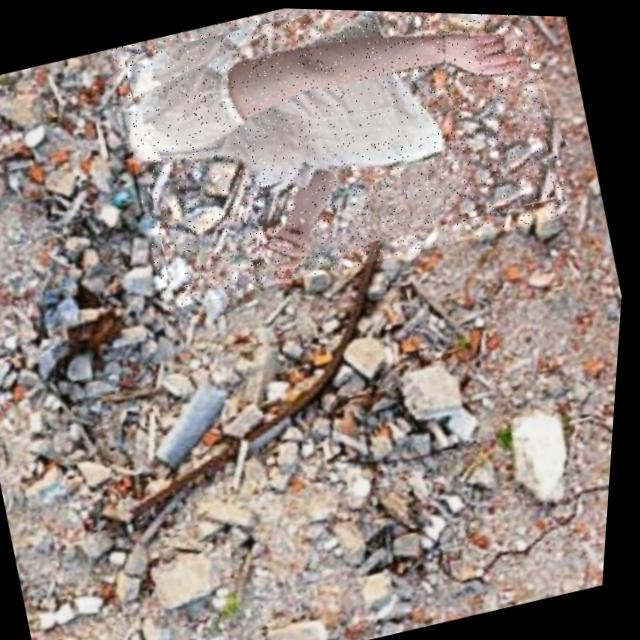Person in Rubble: (97, 3, 583, 318)
